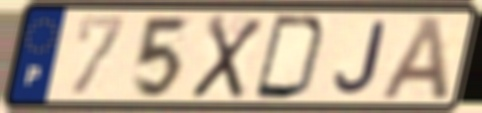5: (126, 13, 195, 100)
7: (69, 13, 127, 98)
A: (376, 14, 453, 103)
D: (250, 12, 330, 103)
J: (331, 19, 388, 97)
X: (186, 12, 267, 102)
